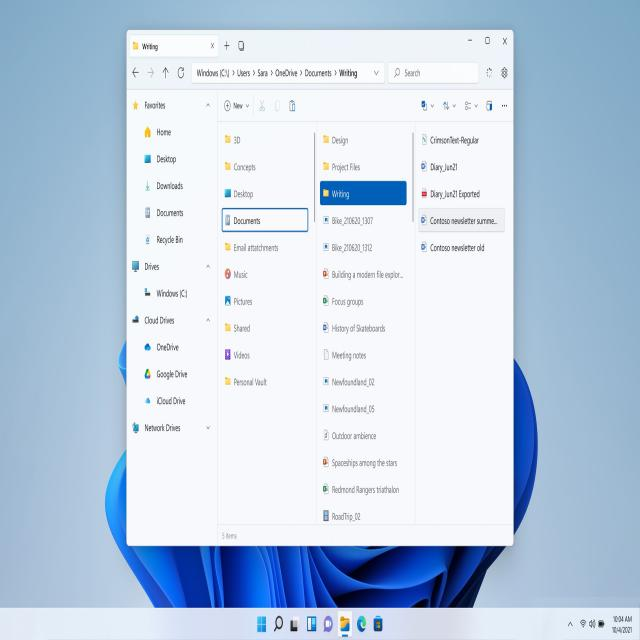button: (317, 153, 415, 180), (317, 233, 415, 260), (317, 288, 415, 315), (127, 252, 217, 281), (318, 261, 414, 288), (317, 316, 415, 342), (317, 343, 415, 369), (317, 370, 415, 396), (318, 126, 414, 152), (318, 179, 414, 205), (318, 207, 414, 233), (129, 92, 214, 121), (418, 179, 506, 207), (317, 421, 415, 446), (317, 447, 415, 472), (317, 473, 415, 498), (128, 306, 215, 334), (317, 499, 415, 523), (129, 415, 216, 442), (220, 126, 310, 152), (221, 288, 308, 314), (317, 397, 415, 420), (220, 234, 308, 259), (417, 235, 505, 260), (220, 368, 308, 393), (220, 154, 310, 178), (220, 342, 308, 366), (418, 129, 505, 153), (220, 180, 310, 203), (220, 262, 308, 285), (418, 155, 505, 178), (220, 209, 309, 231), (220, 317, 308, 339), (418, 209, 504, 231), (140, 223, 203, 251), (140, 196, 203, 223), (140, 171, 203, 196), (141, 361, 203, 386), (140, 146, 203, 170), (140, 387, 203, 410), (141, 122, 203, 145), (141, 282, 203, 305), (141, 337, 203, 360), (607, 609, 640, 638), (220, 95, 254, 116), (253, 609, 270, 638), (336, 610, 354, 637), (460, 94, 481, 117), (370, 609, 387, 637), (418, 94, 438, 117), (319, 610, 335, 637), (286, 610, 302, 637), (303, 610, 318, 638), (271, 610, 286, 638), (440, 94, 458, 117), (355, 610, 369, 638), (144, 59, 158, 87), (234, 31, 248, 56), (498, 60, 511, 86), (129, 60, 142, 86), (175, 60, 188, 86), (286, 93, 300, 117), (484, 59, 496, 86), (160, 60, 172, 87), (461, 31, 479, 49), (496, 31, 514, 49), (479, 30, 495, 49), (484, 94, 495, 117), (222, 34, 233, 57), (256, 95, 268, 115), (578, 614, 588, 636), (566, 614, 576, 636), (271, 96, 282, 116), (588, 613, 597, 636), (597, 614, 606, 636), (498, 96, 509, 114), (208, 38, 218, 54), (204, 258, 212, 276), (204, 97, 212, 114), (372, 66, 382, 79), (204, 312, 212, 328), (204, 421, 212, 435)
field: (192, 64, 385, 84), (128, 34, 220, 56), (388, 63, 478, 83)
